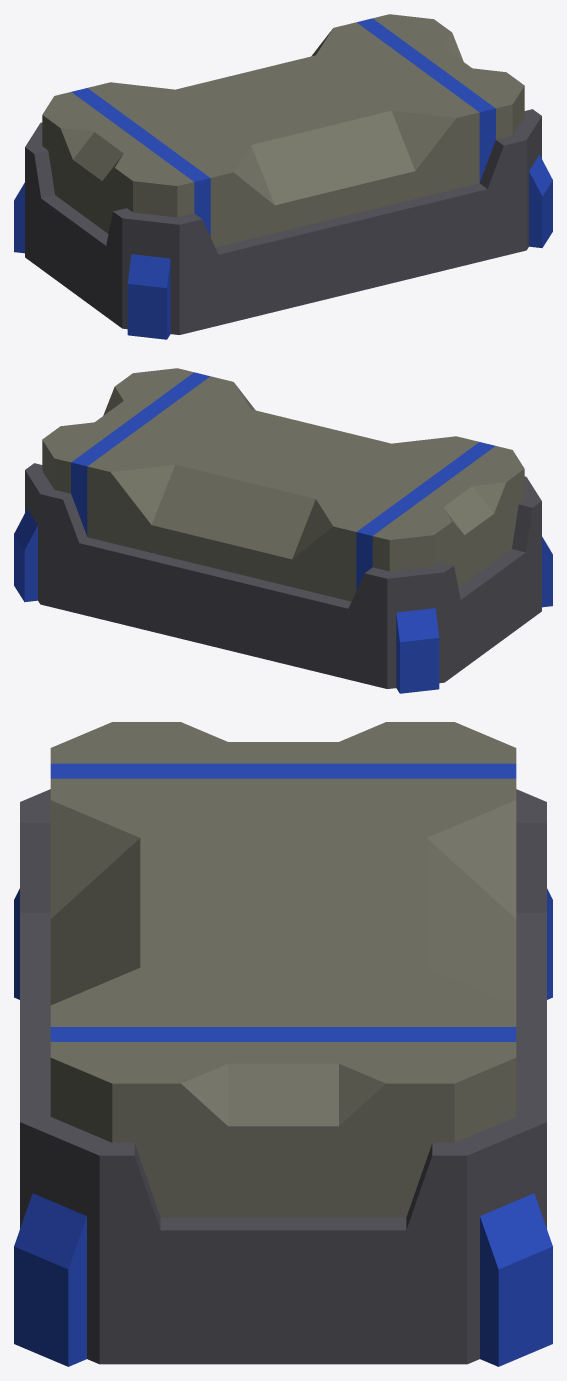
The model's file is LPSciFiCharacter_CrateE.fbx.
3 views of the same model, one above another, from view 1: azimuth 30°, elevation 25°; view 2: azimuth 150°, elevation 25°; view 3: azimuth 270°, elevation 25° (orthographic). The views are drawn at different scales.
Visible parts, largest first — view 1: CrateE; view 2: CrateE; view 3: CrateE.
Boxes of the visible parts, <box> form: CrateE: <box>14,14,552,339</box>; CrateE: <box>14,368,552,693</box>; CrateE: <box>14,722,552,1366</box>.
Size of the model in its own units: 187 by 59.68 by 109.
